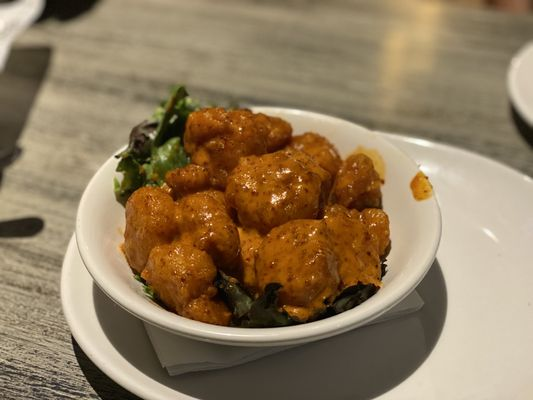salad: (0, 217, 44, 239)
sushi: (74, 84, 448, 345)
